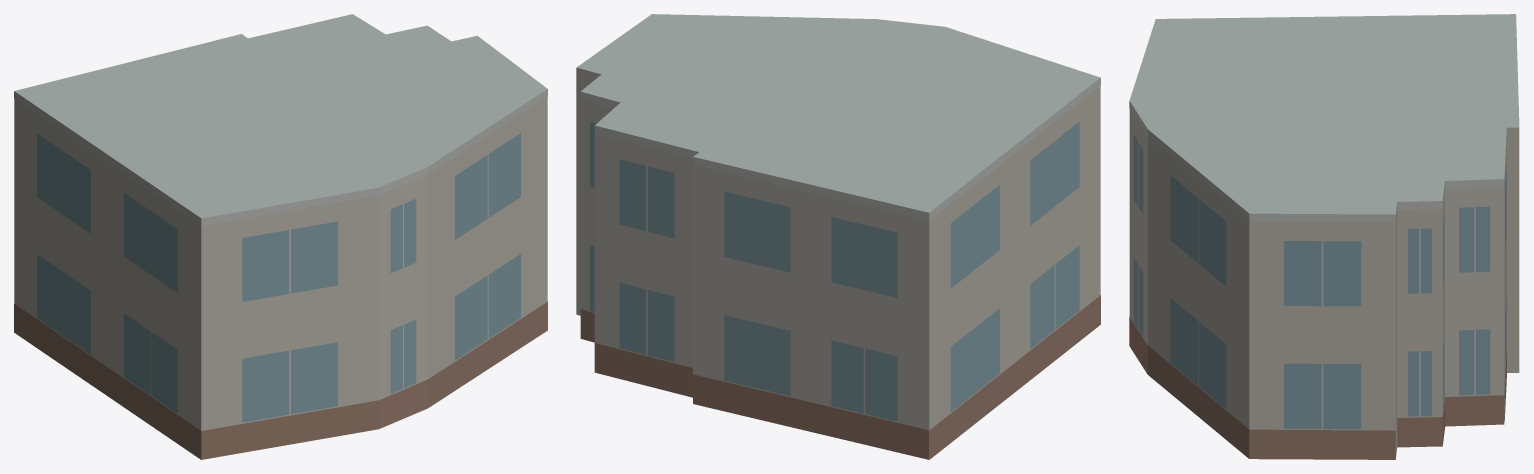
File: survey-upis-32505477.glb
3 renders of one model, left to right at view 1: azimuth 30°, elevation 25°; view 2: azimuth 150°, elevation 25°; view 3: azimuth 270°, elevation 25°, orthographic. The views are drawn at different scales.
Visible parts, largest first — view 1: survey-upis-32505477.tmp; view 2: survey-upis-32505477.tmp; view 3: survey-upis-32505477.tmp.
Part boxes in pixels (x1,y1,x2,y2): survey-upis-32505477.tmp: [14, 14, 547, 459]; survey-upis-32505477.tmp: [576, 14, 1100, 459]; survey-upis-32505477.tmp: [1129, 14, 1519, 459].
Size of the model in its own units: 13.24 by 7.55 by 10.88.
